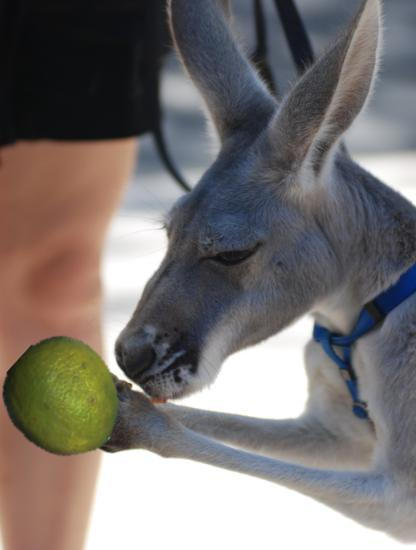Limes: (4, 338, 125, 459)
